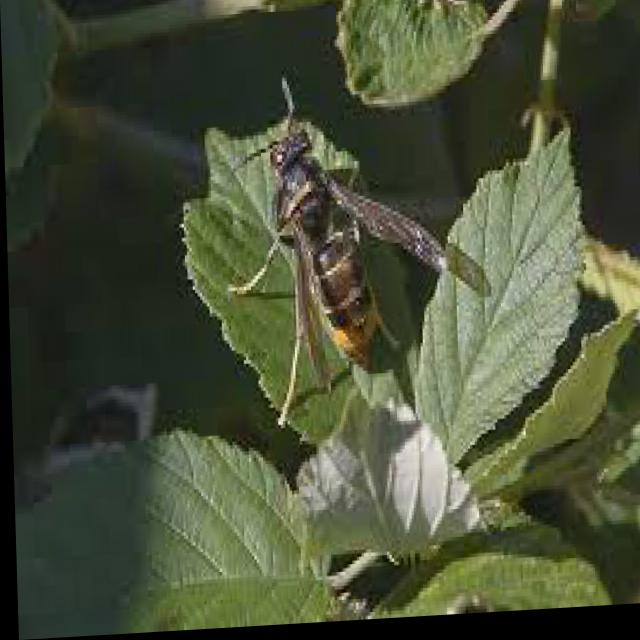Vespa Velutina: (219, 69, 450, 441)
